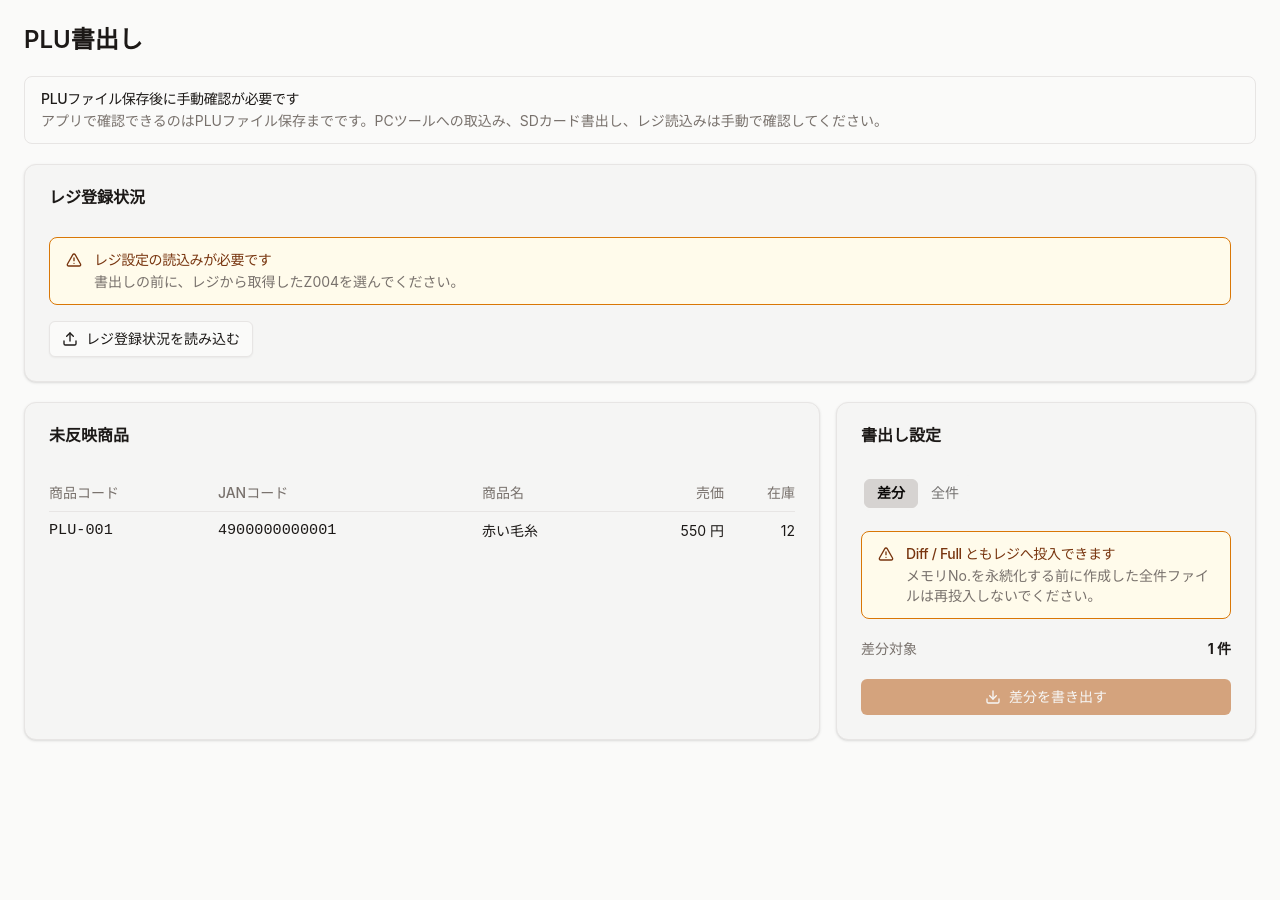
Scenario: PluExportPage (UI-08 / REQ-402) › REQ-907 imports FilePicker bytes and unlocks export after snapshot summary refresh
Expected: the text "レジ設定の読込みが必要です" is shown, [94,251,272,268]
Expected: the button "差分を書き出す" is disabled, [861,679,1231,715]
Click the button with aria-label "レジ登録状況のZ004を選ぶ" at (151, 339), box [49,321,253,357]
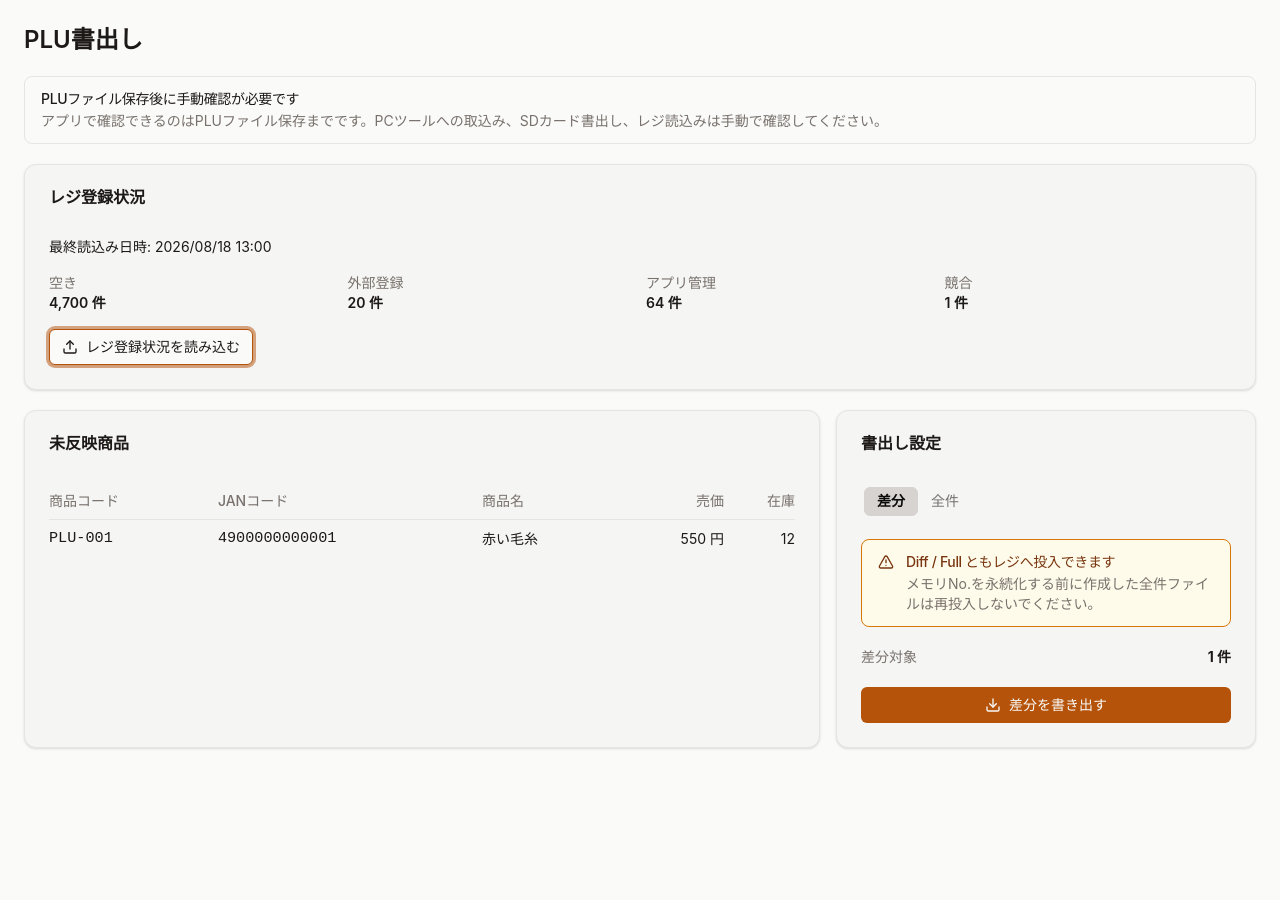
Expected: the text "最終読込み日時: 2026/08/18 13:00" is shown, [49,238,272,255]
Expected: the text "4,700 件" is shown, [49,294,106,311]
Expected: the button "差分を書き出す" is enabled, [861,687,1231,723]
